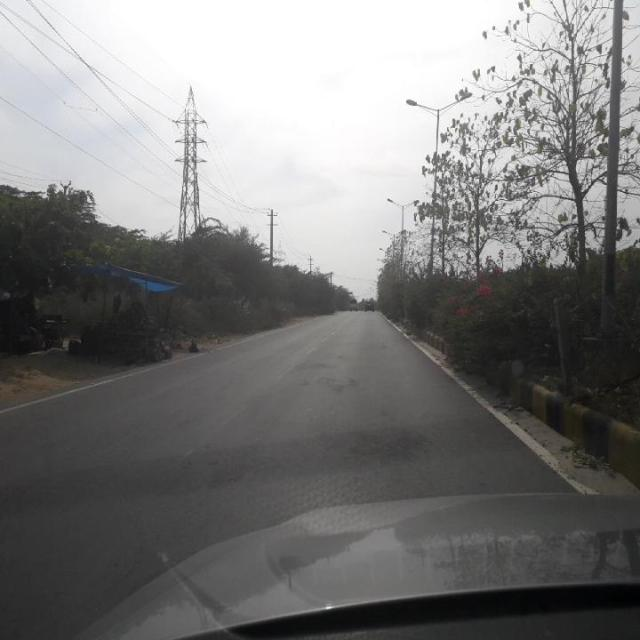D20: (346, 418, 420, 466)
